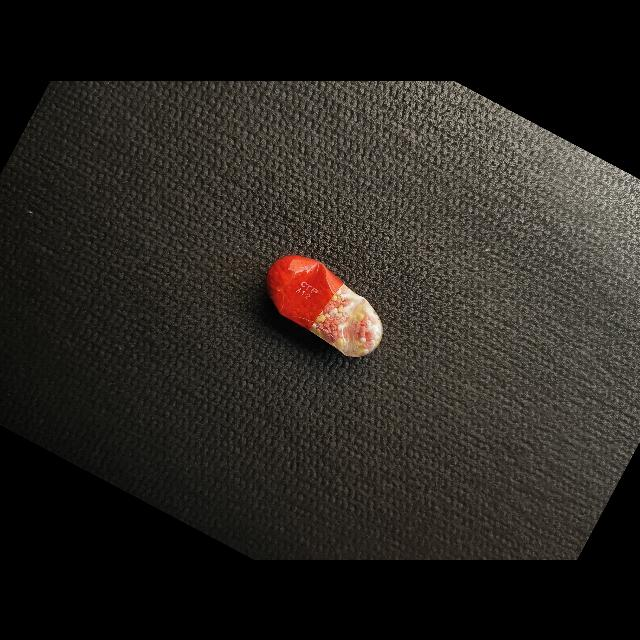Defective Capsule: (265, 254, 383, 356)
